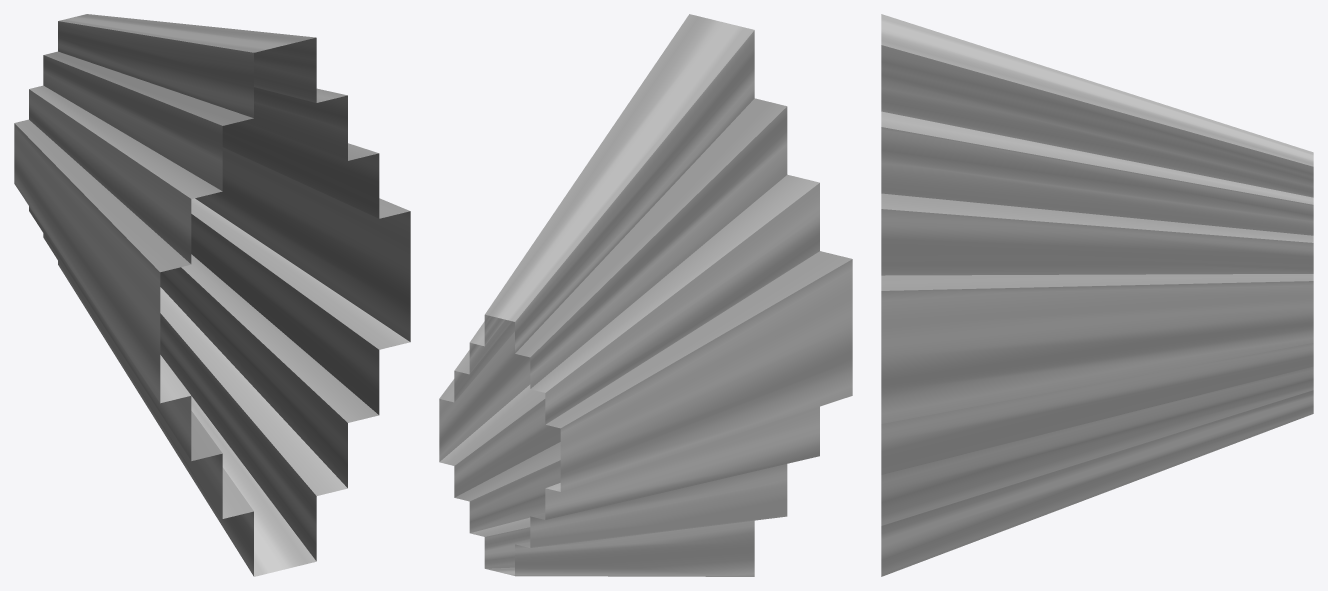
The model's file is flare_ring2.obj.
3 renders of one model, left to right at view 1: azimuth 30°, elevation 25°; view 2: azimuth 150°, elevation 25°; view 3: azimuth 270°, elevation 25°, orthographic. The views are drawn at different scales.
Parts seen in each view (by area): view 1: Plane.001; view 2: Plane.001; view 3: Plane.001.
Part boxes in pixels (left/top/right/bottom): Plane.001: left=14, top=14, right=410, bottom=576; Plane.001: left=439, top=14, right=852, bottom=576; Plane.001: left=881, top=14, right=1313, bottom=576.
Size of the model in its own units: 2.15 by 4.3 by 3.17.
